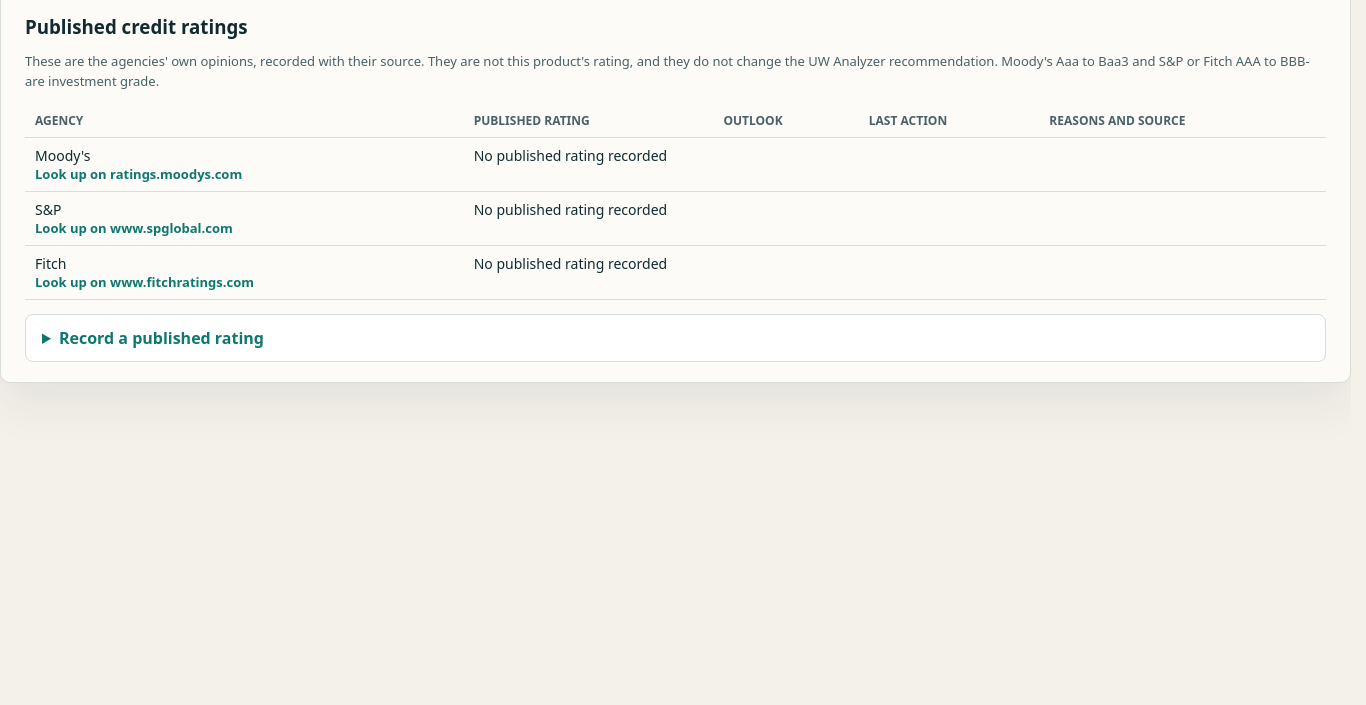
the agencies' own websites are the main sources › names the main sources in the form and warns when the address is not the agency's own
The image size is (1366, 705).
Click the heading "Record a published rating": (161, 338) [59,327,264,349]
(page scrolled)
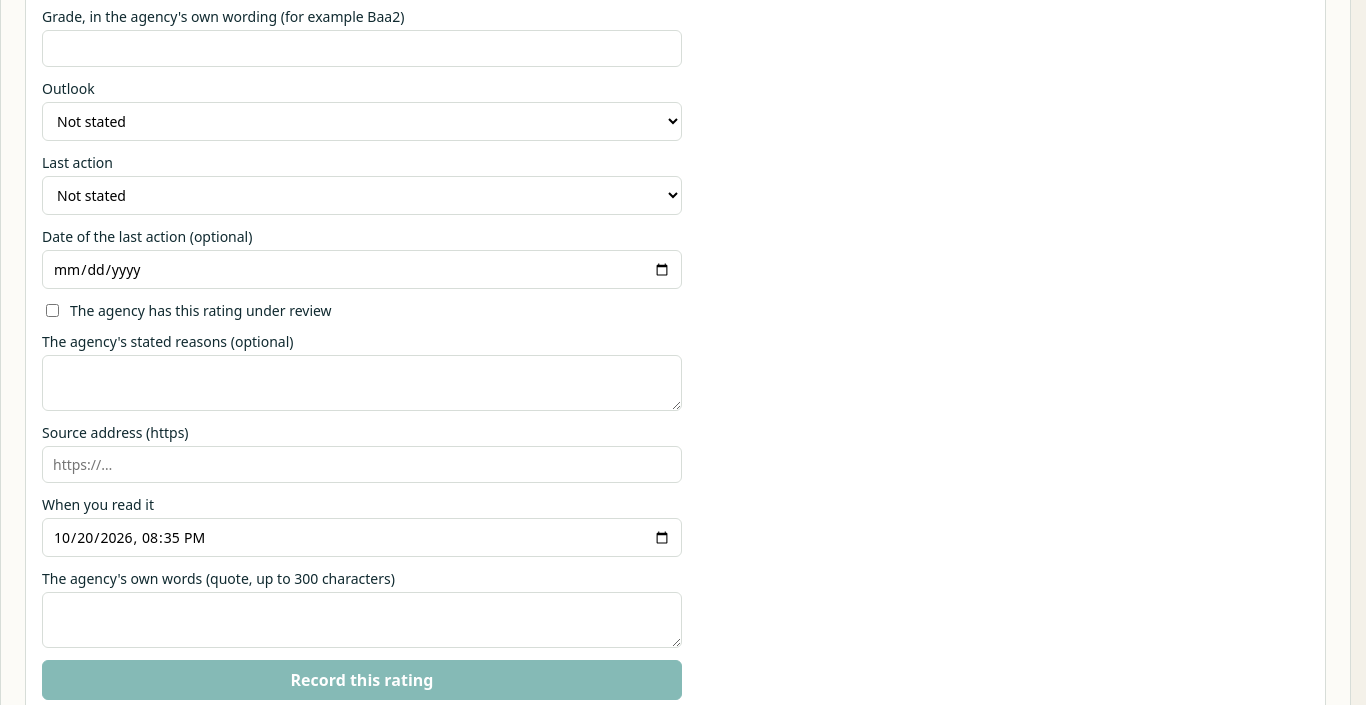
In the field labelled "Source address (https)": (362, 464) [42,446,682,483], type "https://capital.com/en-au/news/nike"
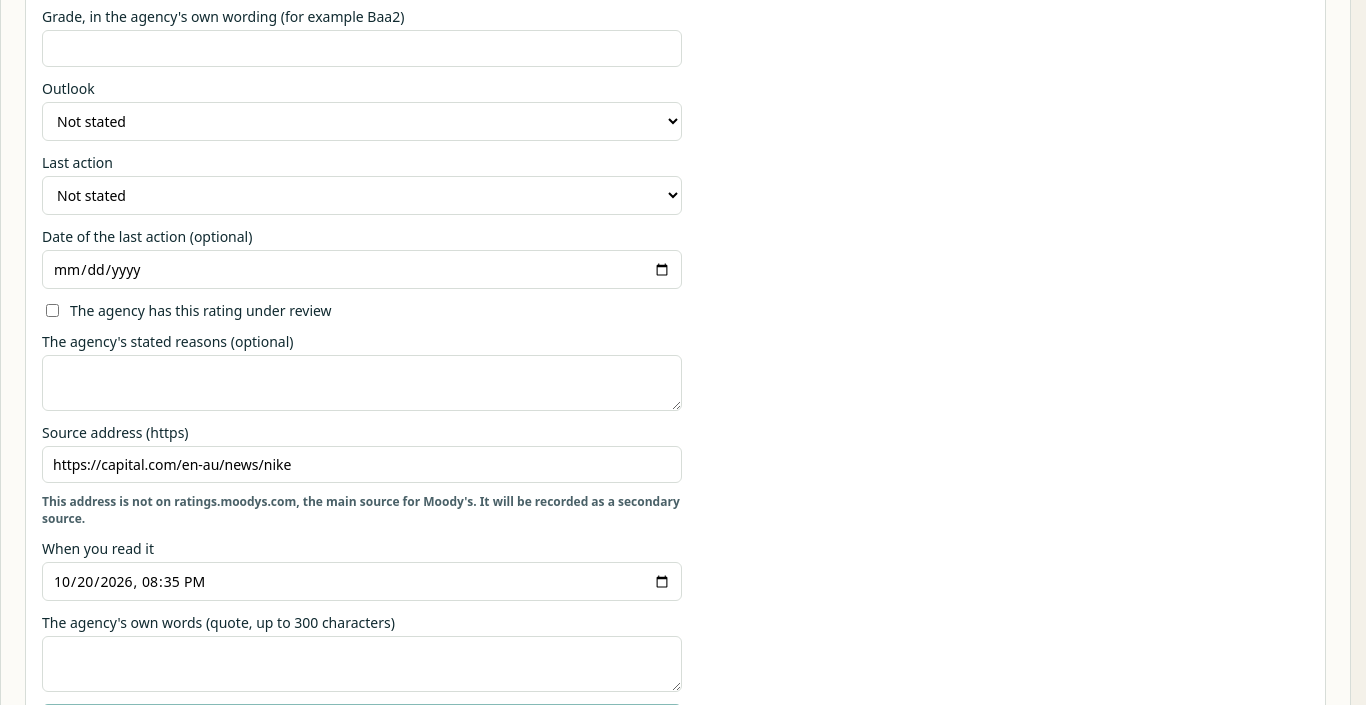
Replace the text in the field labelled "Source address" with "https://ratings.moodys.com/ratings-news/123": (362, 464) [42,446,682,483]
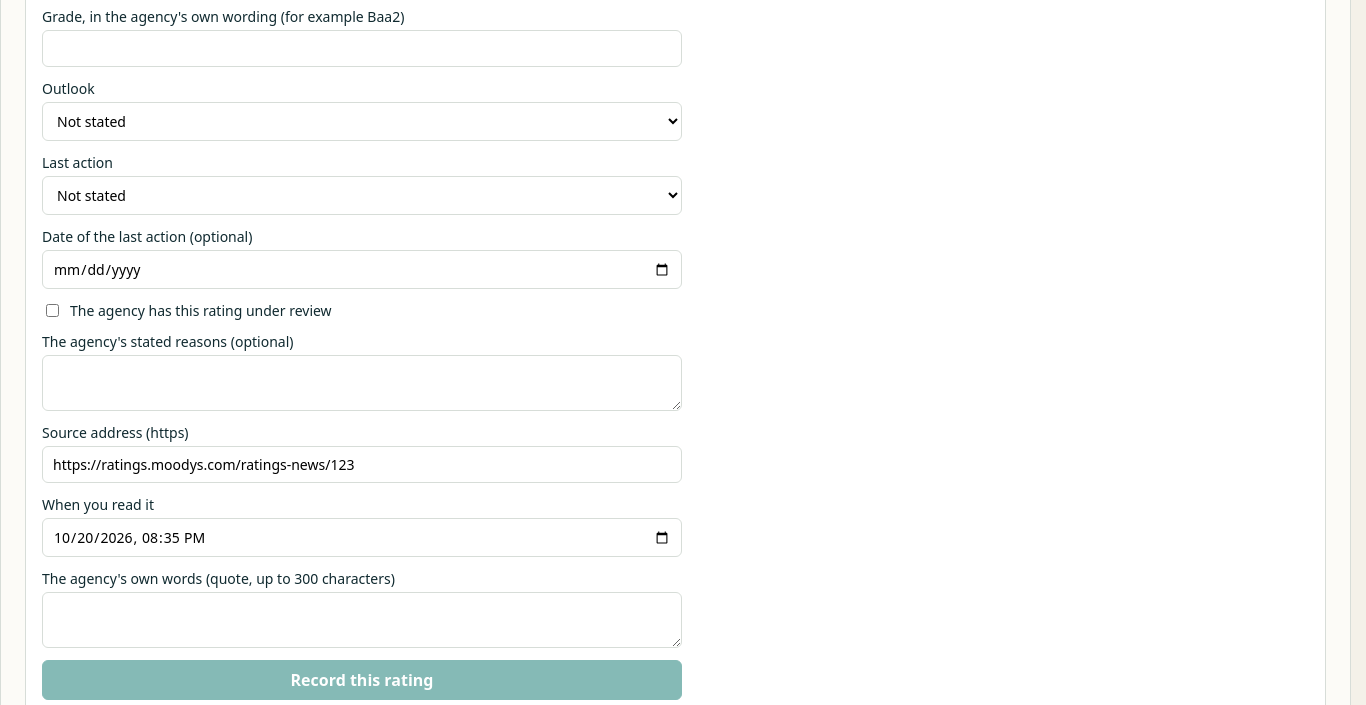
Result: the text "will be recorded as a secondary source" is gone
Replace the text in the field labelled "Source address (https)" with "https://evil-moodys.com/x": (362, 464) [42,446,682,483]
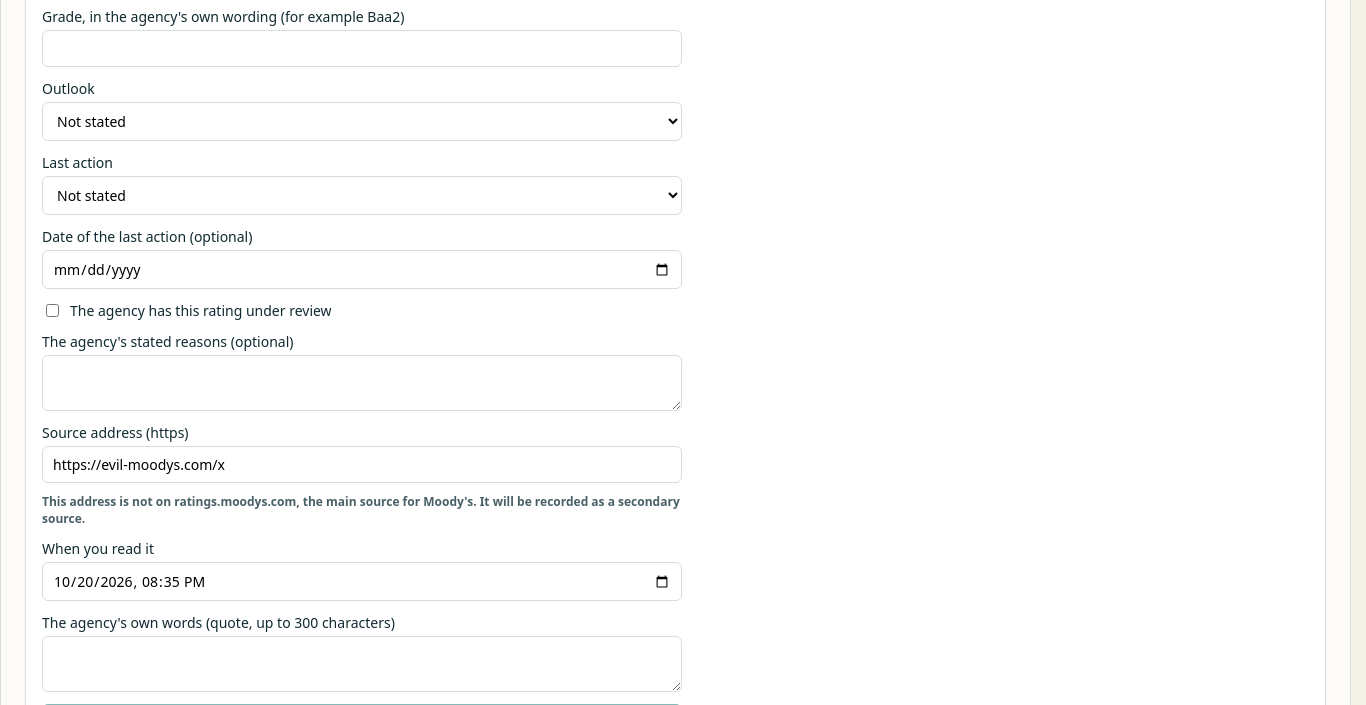
Result: the text "will be recorded as a secondary source" is shown at [42,493,680,527]
